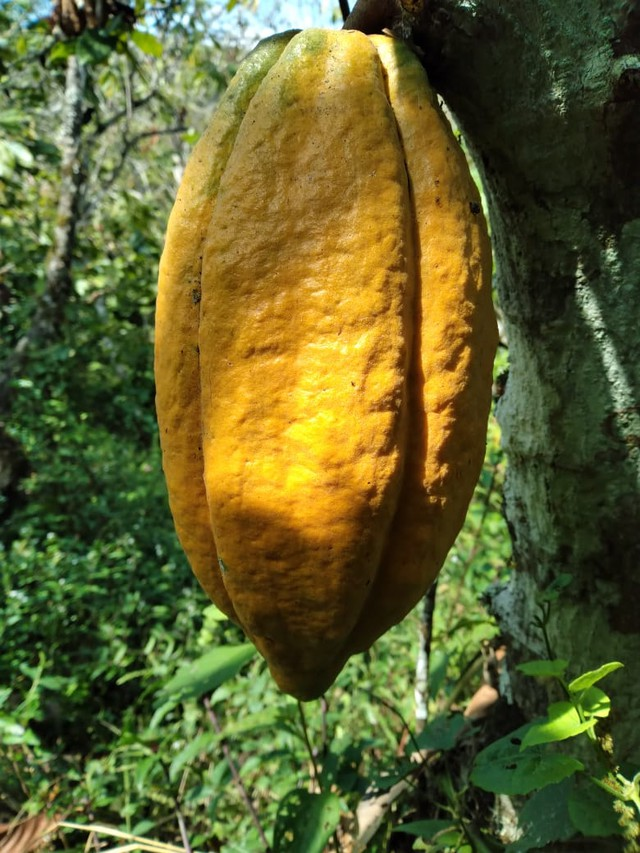Health: (151, 21, 505, 705)
